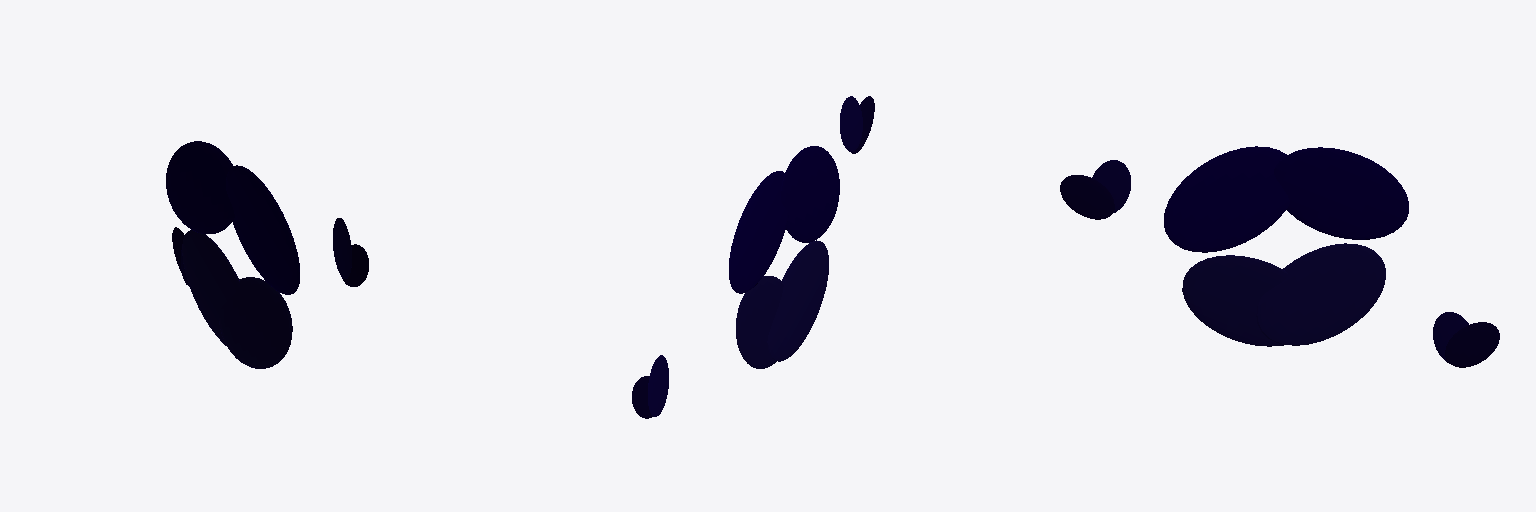
Rendered from communist_kiss.obj.
3 renders of one model, left to right at view 1: azimuth 30°, elevation 25°; view 2: azimuth 150°, elevation 25°; view 3: azimuth 270°, elevation 25°, orthographic.
Visible parts, largest first — view 1: Sphere, Sphere.005_Sphere.006, Sphere.002, Sphere.004_Sphere.005, Sphere.003_Sphere.008, Sphere.001_Sphere.007; view 2: Sphere.002, Sphere, Sphere.005_Sphere.006, Sphere.004_Sphere.005, Sphere.003_Sphere.008, Sphere.007_Sphere.010, Sphere.006_Sphere.009; view 3: Sphere, Sphere.004_Sphere.005, Sphere.002, Sphere.005_Sphere.006, Sphere.006_Sphere.009, Sphere.001_Sphere.007, Sphere.003_Sphere.008, Sphere.007_Sphere.010.
Boxes of the visible parts, x1=… form: Sphere: x1=226, y1=165, x2=299, y2=294; Sphere.005_Sphere.006: x1=219, y1=277, x2=292, y2=368; Sphere.002: x1=166, y1=141, x2=234, y2=233; Sphere.004_Sphere.005: x1=182, y1=230, x2=239, y2=345; Sphere.003_Sphere.008: x1=333, y1=218, x2=351, y2=278; Sphere.001_Sphere.007: x1=342, y1=244, x2=368, y2=286; Sphere.002: x1=729, y1=171, x2=788, y2=293; Sphere: x1=780, y1=146, x2=839, y2=242; Sphere.005_Sphere.006: x1=767, y1=240, x2=828, y2=361; Sphere.004_Sphere.005: x1=736, y1=276, x2=783, y2=368; Sphere.003_Sphere.008: x1=840, y1=96, x2=862, y2=151; Sphere.007_Sphere.010: x1=648, y1=355, x2=668, y2=416; Sphere.006_Sphere.009: x1=632, y1=376, x2=652, y2=418; Sphere: x1=1164, y1=146, x2=1289, y2=252; Sphere.004_Sphere.005: x1=1256, y1=243, x2=1385, y2=345; Sphere.002: x1=1274, y1=147, x2=1408, y2=239; Sphere.005_Sphere.006: x1=1182, y1=255, x2=1287, y2=346; Sphere.006_Sphere.009: x1=1445, y1=322, x2=1499, y2=367; Sphere.001_Sphere.007: x1=1060, y1=175, x2=1114, y2=219; Sphere.003_Sphere.008: x1=1092, y1=160, x2=1130, y2=212; Sphere.007_Sphere.010: x1=1433, y1=312, x2=1468, y2=363.
Size of the model in its own units: 1.59 by 5.77 by 11.48.